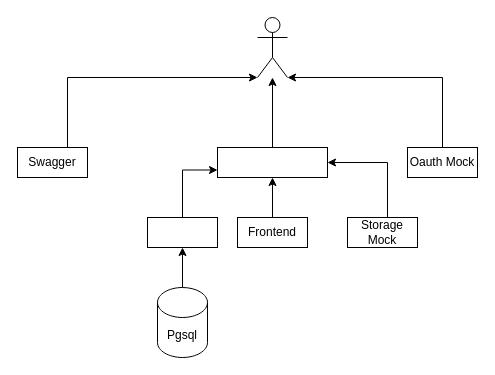
Image size: 495x375. Some labels were removed from this diagram. The shapes that lost their labels are listed below. From the top down, each one's box as (x1, y1, x2, y2) in pixels, then its label:
(256, 16, 288, 78): Actor
(216, 146, 328, 178): Nginx
(146, 216, 218, 248): API
